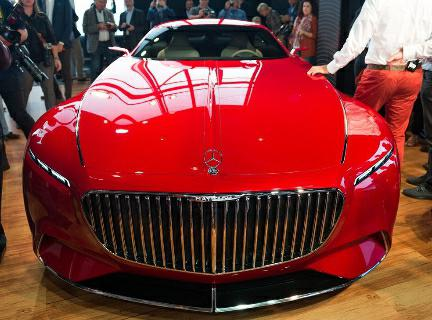奔驰-VisionMercedes-Maybach6: (19, 15, 406, 320)
